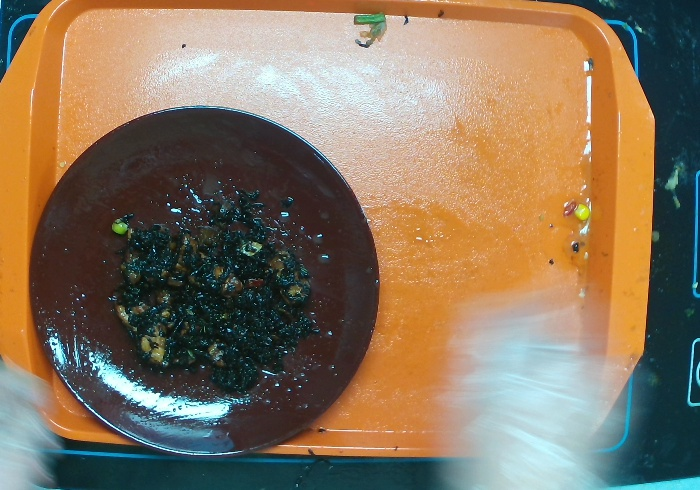HZYJPL-Ka_Fei_Yuan_Pan: (28, 102, 381, 460)
